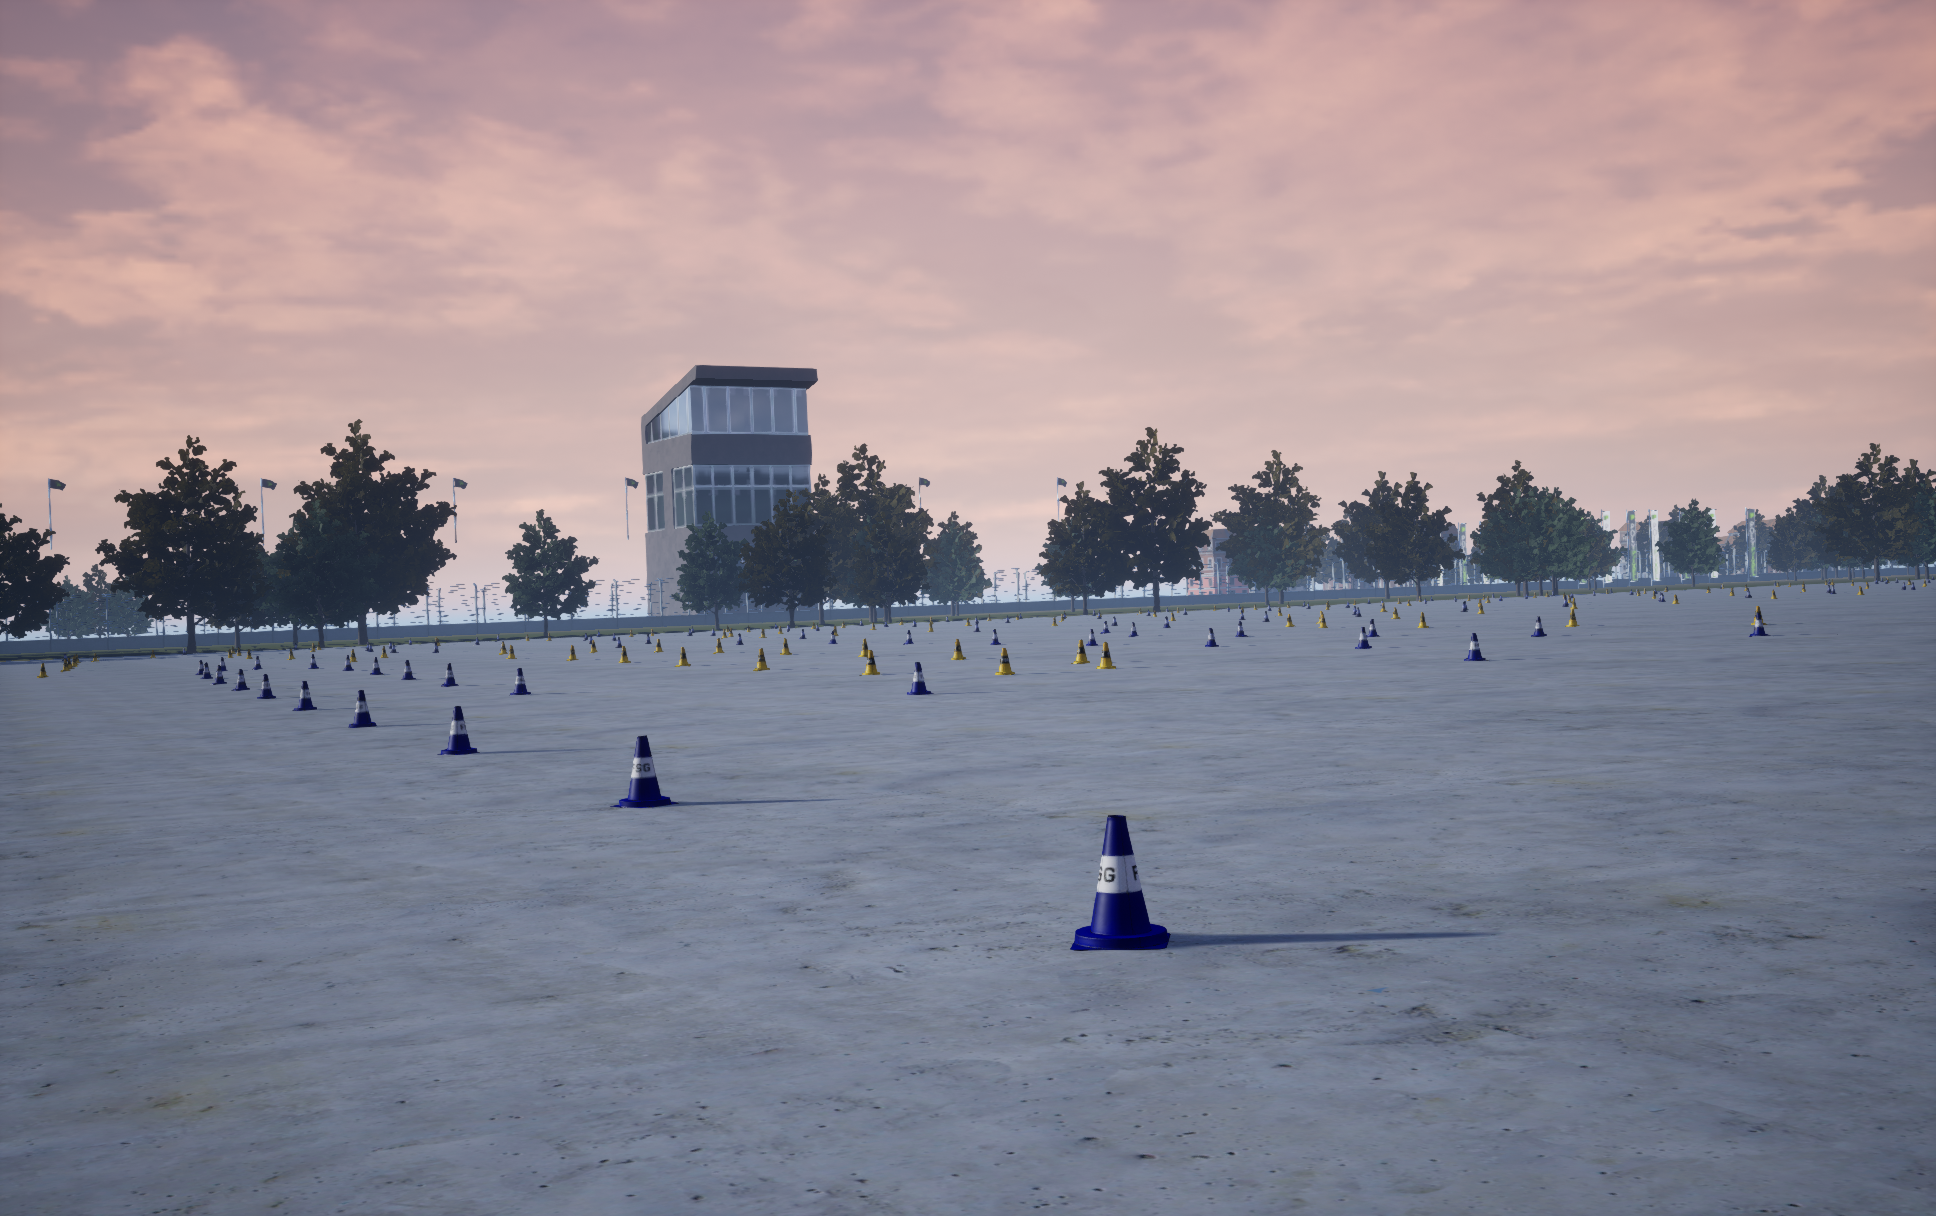blue: (859, 650, 881, 675), (1095, 642, 1115, 668), (995, 649, 1014, 674), (1072, 639, 1088, 663), (754, 649, 769, 670), (674, 647, 691, 665), (951, 639, 965, 658), (1751, 607, 1766, 623)
yellow: (1070, 815, 1170, 950), (609, 735, 678, 807), (437, 706, 479, 754), (347, 691, 375, 727), (906, 663, 933, 693), (291, 681, 317, 710), (1464, 633, 1488, 660), (509, 668, 530, 695), (1748, 614, 1771, 636), (256, 674, 275, 698), (441, 663, 458, 686), (231, 670, 249, 691), (1355, 628, 1371, 649), (1531, 616, 1547, 636), (210, 665, 226, 684), (401, 660, 415, 679), (1205, 628, 1217, 646)
